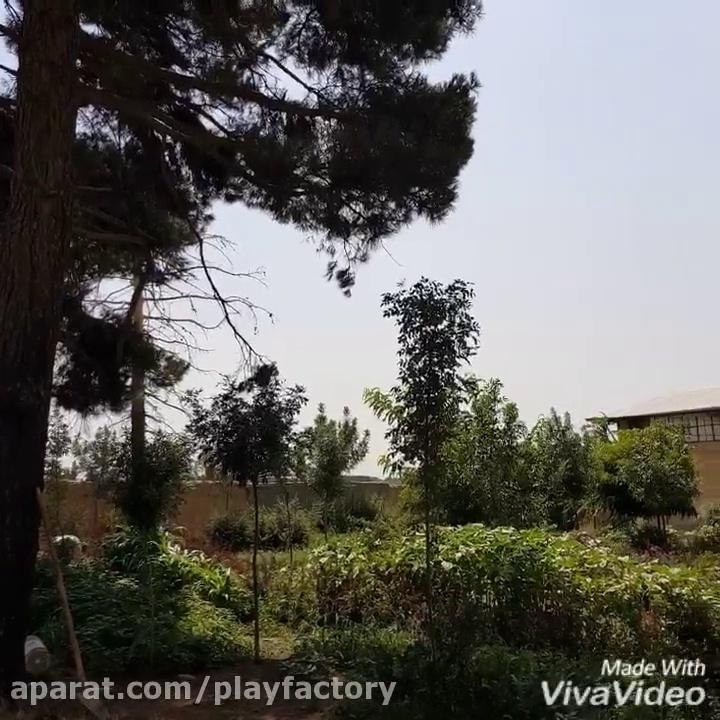drone: (393, 269, 413, 289)
